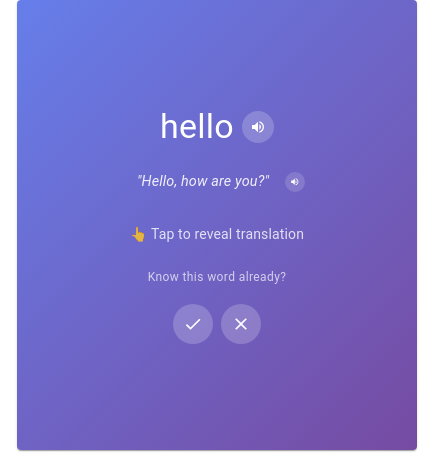
Scenario: FlashCard › should display example translation on back side when available
The image size is (435, 469).
Click to flip to back side
Click the text "hello": (197, 127) [160, 106, 234, 148]
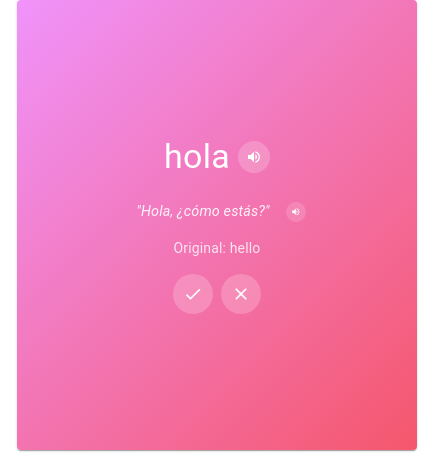
Expected: the text "hola" is shown, [164, 136, 230, 178]
Expected: the text "\"Hola, ¿cómo estás?\"" is shown, [128, 202, 278, 222]
